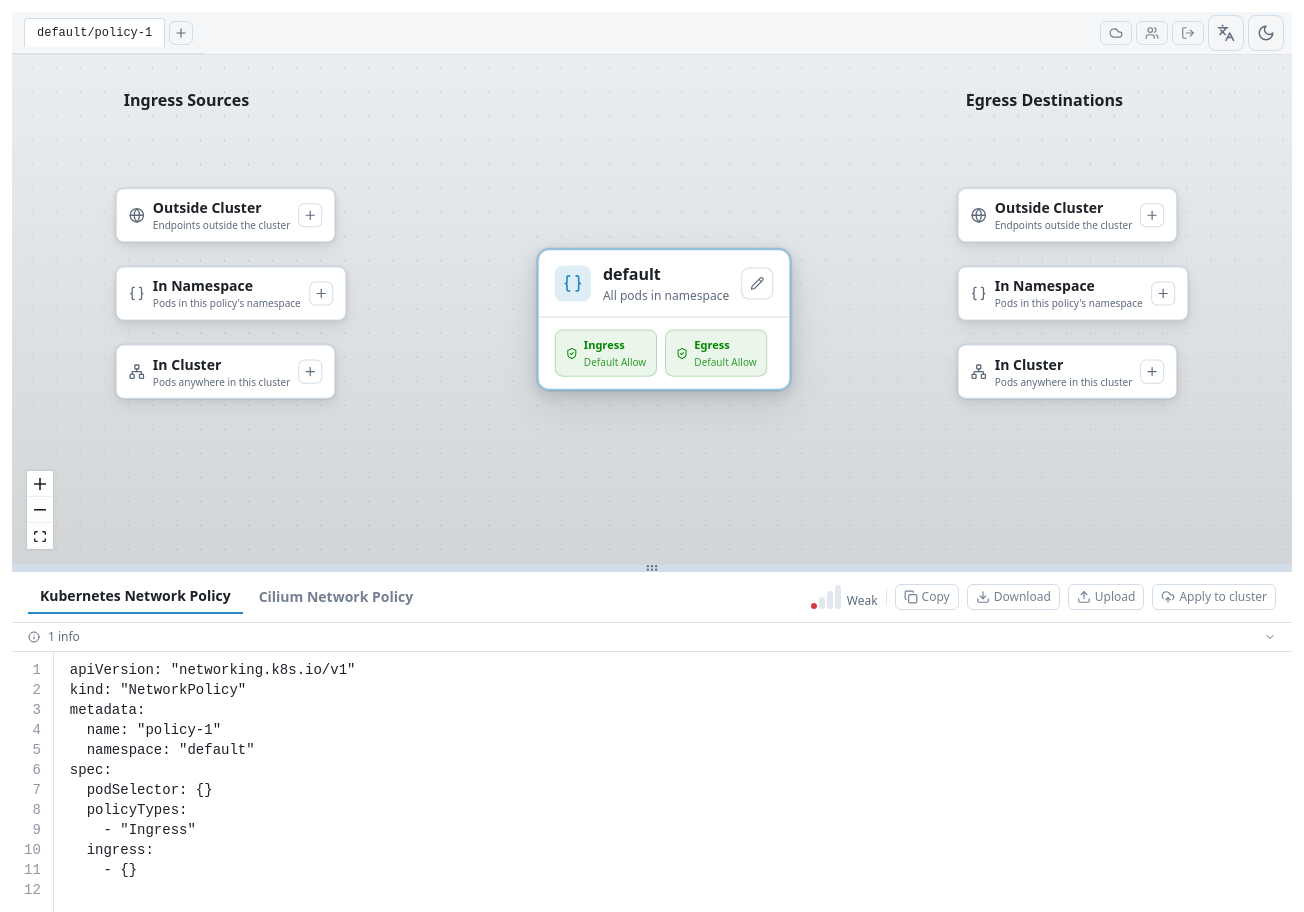
<App/> › switches back to English
Check: the heading "Ingress Sources" is shown, box [124,88,249,112]
Click the button titled "中文" at (1226, 33), box [1208,15,1244,51]
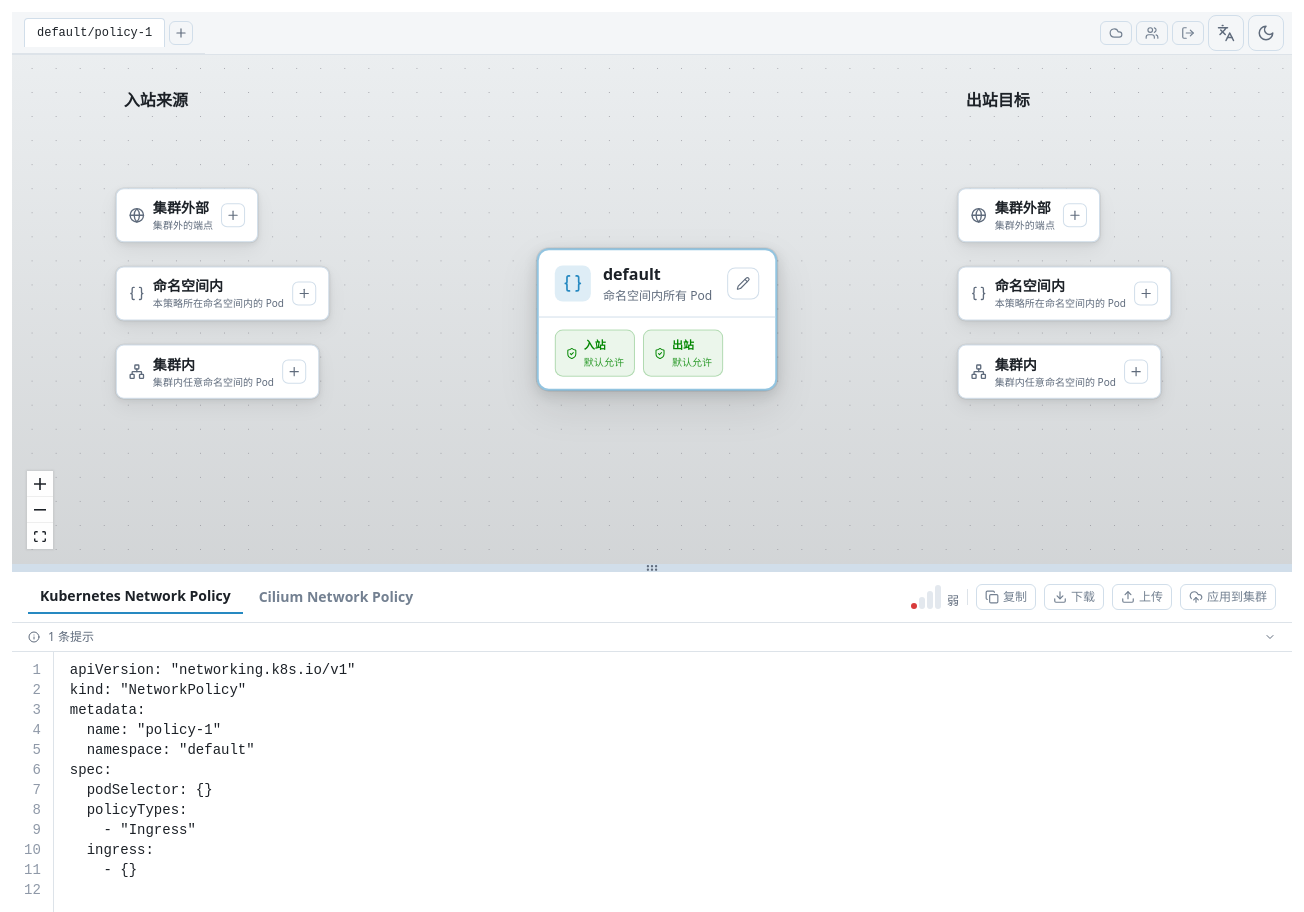
Check: the heading "入站来源" is shown, box [124,88,188,112]
Click the button titled "English" at (1226, 33), box [1208,15,1244,51]
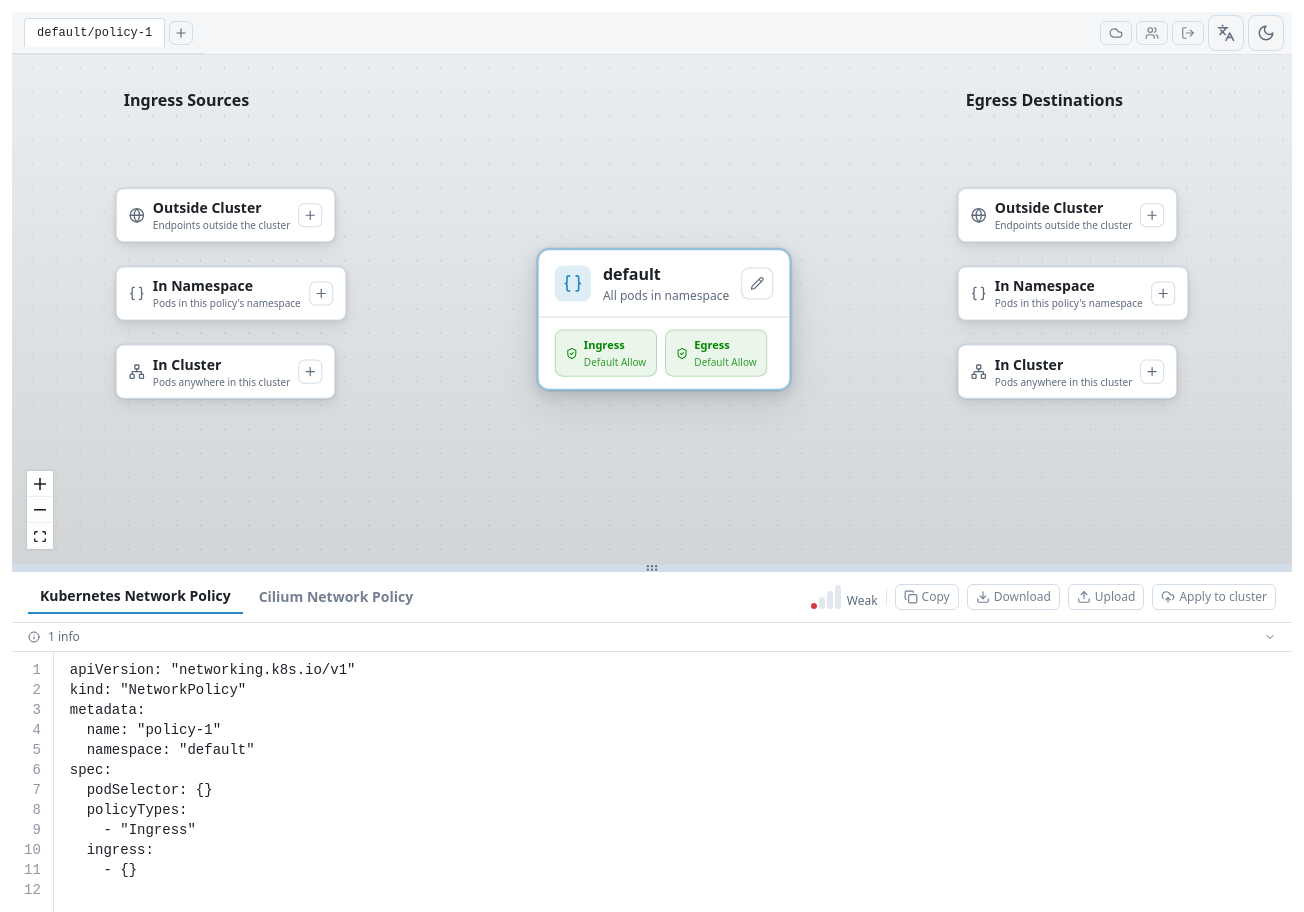
Check: the heading "Ingress Sources" is shown, box [124,88,249,112]
Check: the heading "入站来源" is gone
